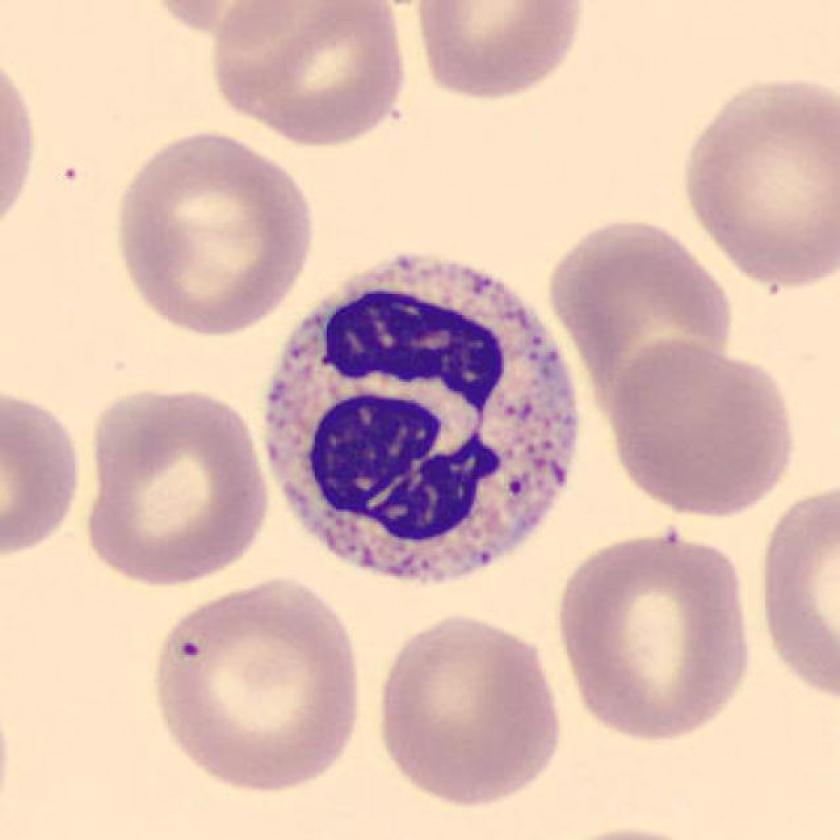neutrophil: (267, 255, 580, 583)
